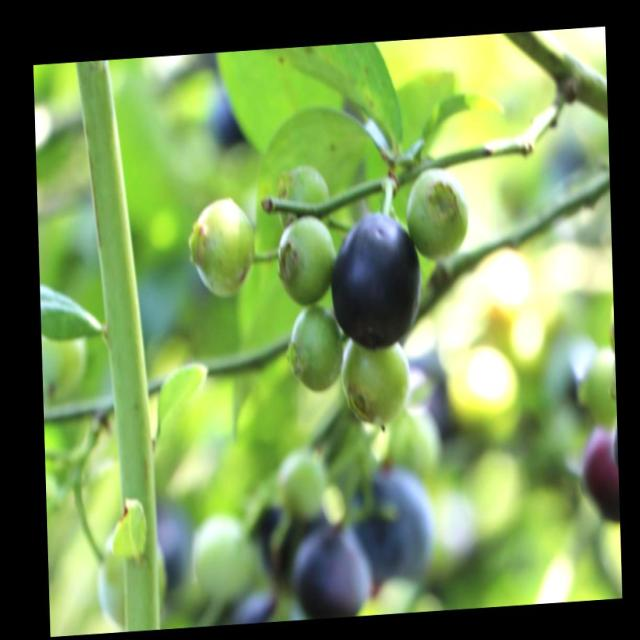blueberry: (328, 208, 424, 354), (352, 459, 435, 583), (290, 518, 377, 619), (576, 426, 619, 528)
blueberry-unripe: (189, 195, 258, 295), (342, 336, 412, 423), (406, 165, 471, 254), (277, 215, 334, 304), (291, 300, 340, 392), (276, 164, 328, 227)
